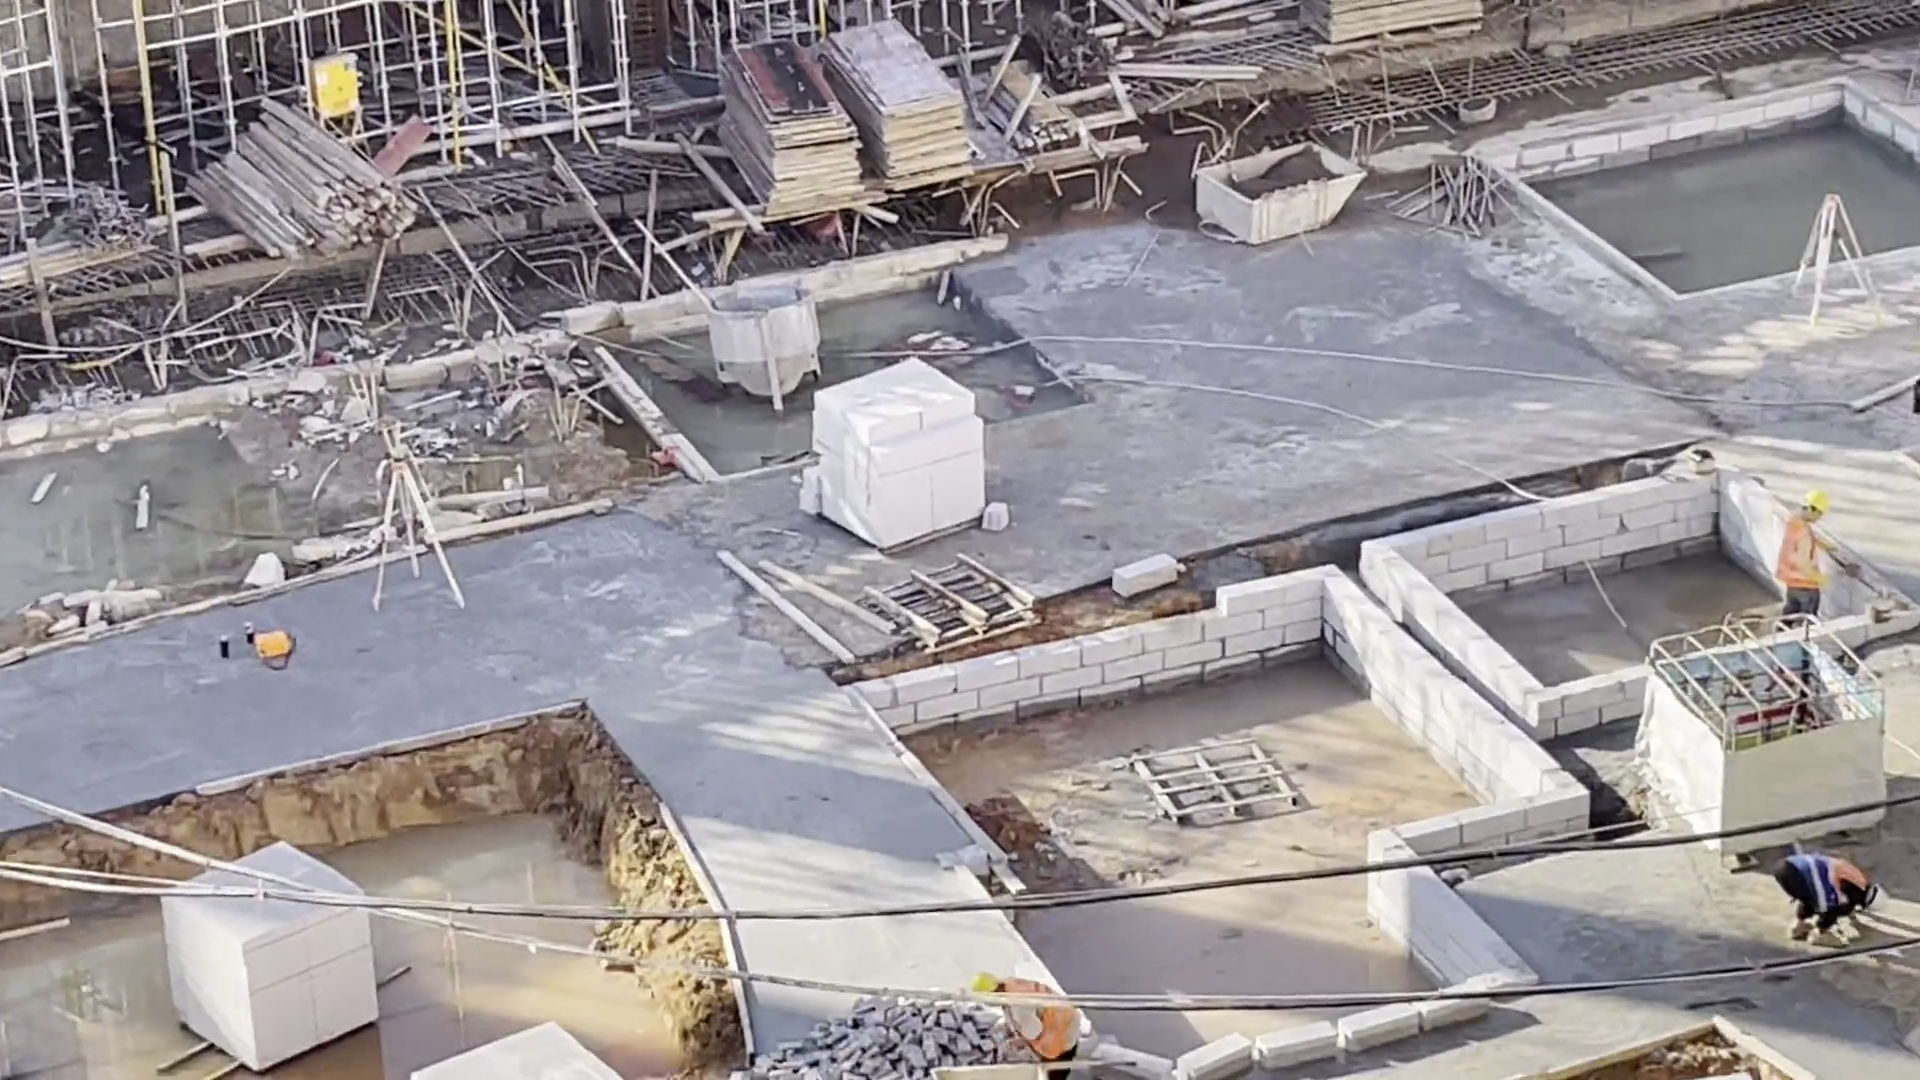board: (821, 12, 978, 193), (719, 38, 866, 219)
brick: (156, 912, 386, 1064), (817, 358, 989, 553), (405, 1019, 621, 1080)
ebox: (313, 48, 365, 132)
helmet: (1804, 488, 1832, 515), (1864, 887, 1888, 915)
hopper: (1189, 134, 1376, 252), (700, 274, 821, 413)
person: (1770, 849, 1892, 954), (1775, 493, 1832, 623)
vest: (1785, 844, 1867, 911), (1773, 511, 1827, 592)
wood: (178, 90, 422, 264)
